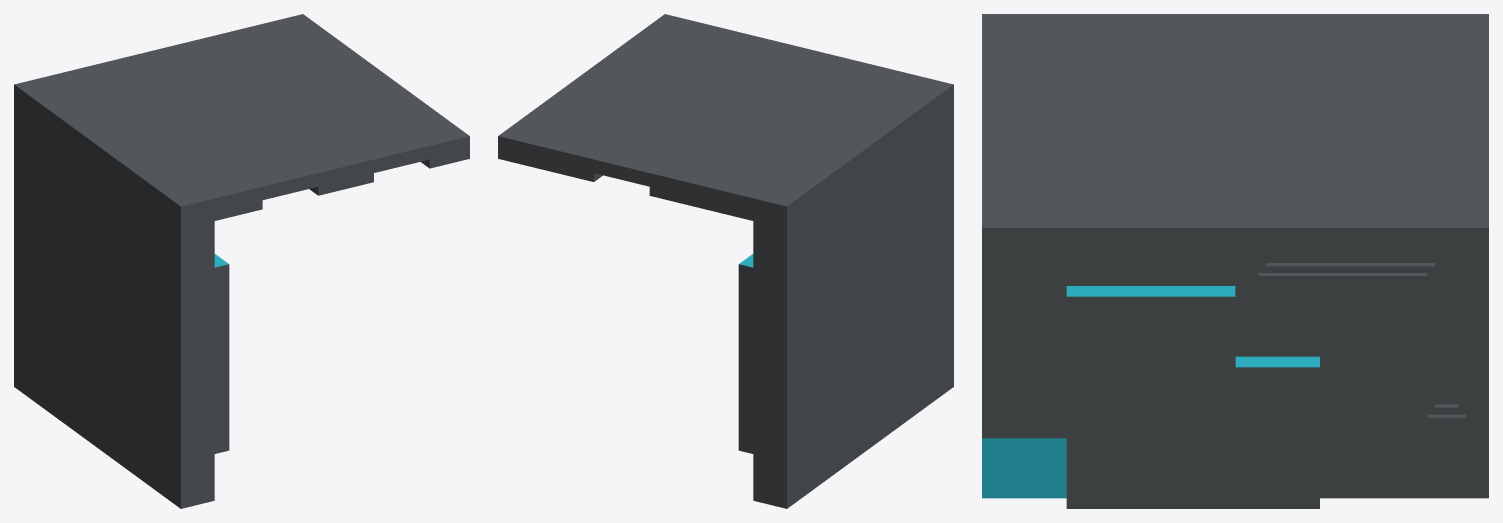
The model's file is EspacioContenidoParedInteriorBajoNI.gltf.
3 renders of one model, left to right at view 1: azimuth 30°, elevation 25°; view 2: azimuth 150°, elevation 25°; view 3: azimuth 270°, elevation 25°, orthographic. The views are drawn at different scales.
Visible parts, largest first — view 1: Cubo.2; view 2: Cubo.2; view 3: Cubo.2.
Part boxes in pixels (x1,y1,x2,y2): Cubo.2: [14, 14, 469, 508]; Cubo.2: [498, 14, 953, 508]; Cubo.2: [982, 14, 1488, 508].
Size of the model in its own units: 2 by 2 by 2.
1 material, 1 textured.
